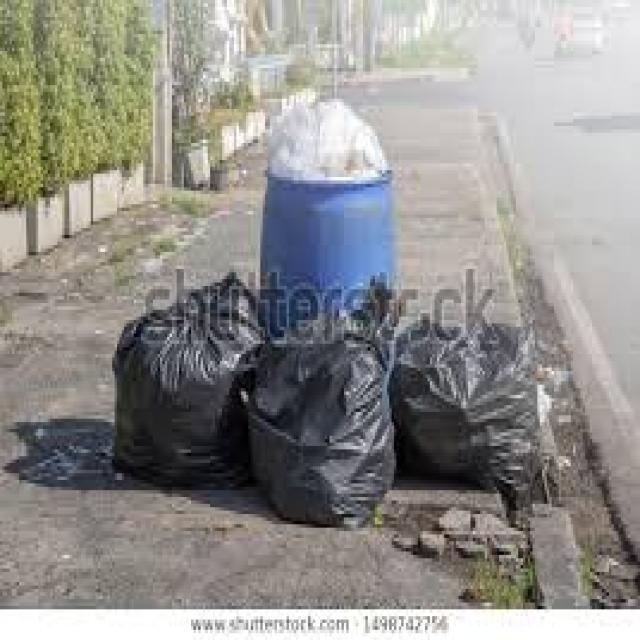plastic_bag: (99, 280, 273, 474), (237, 331, 395, 515), (393, 328, 558, 491)
